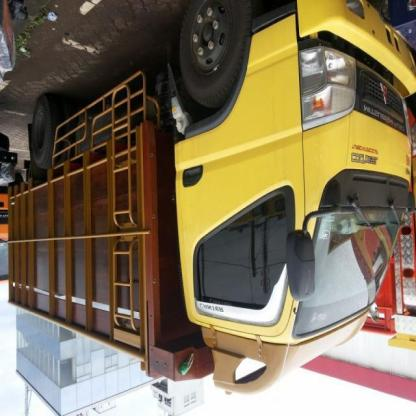truck: (9, 2, 416, 394)
